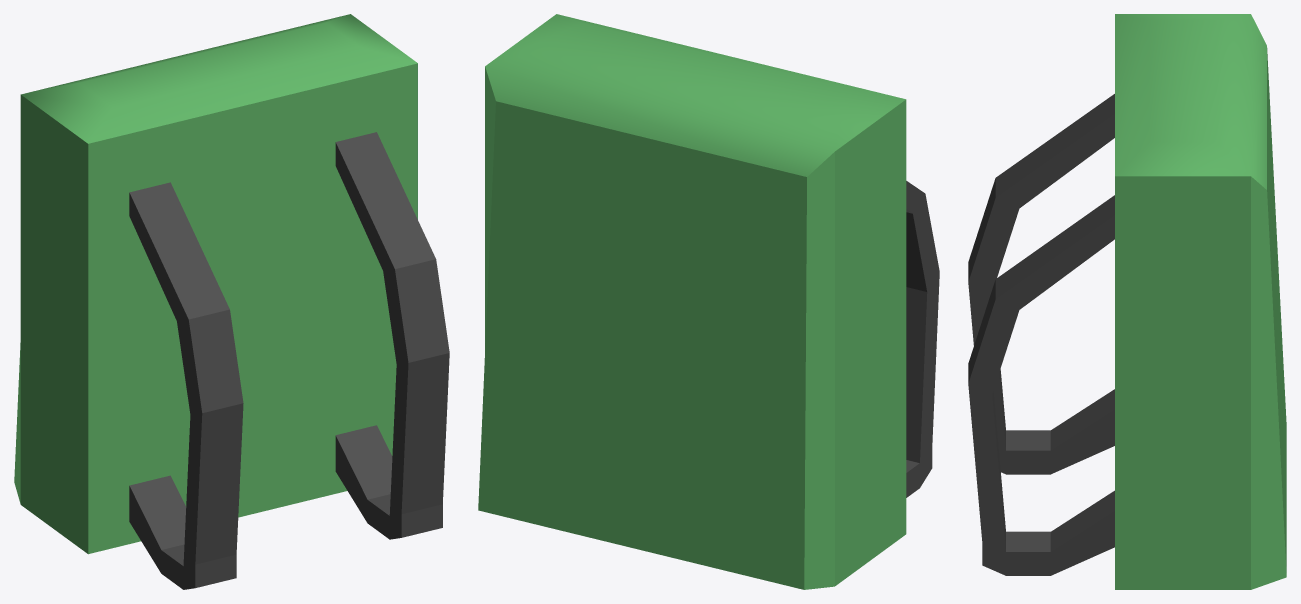
Rendered from bag.fbx.
The picture shows the model from 3 angles, left to right: view 1: azimuth 30°, elevation 25°; view 2: azimuth 150°, elevation 25°; view 3: azimuth 270°, elevation 25°; orthographic projection. The views are drawn at different scales.
Visible parts, largest first — view 1: bag; view 2: bag; view 3: bag.
Boxes of the visible parts, <box> form: bag: <box>14,14,449,589</box>; bag: <box>478,14,939,589</box>; bag: <box>968,14,1286,589</box>.
Size of the model in its own units: 35.8 by 44.61 by 29.68.
